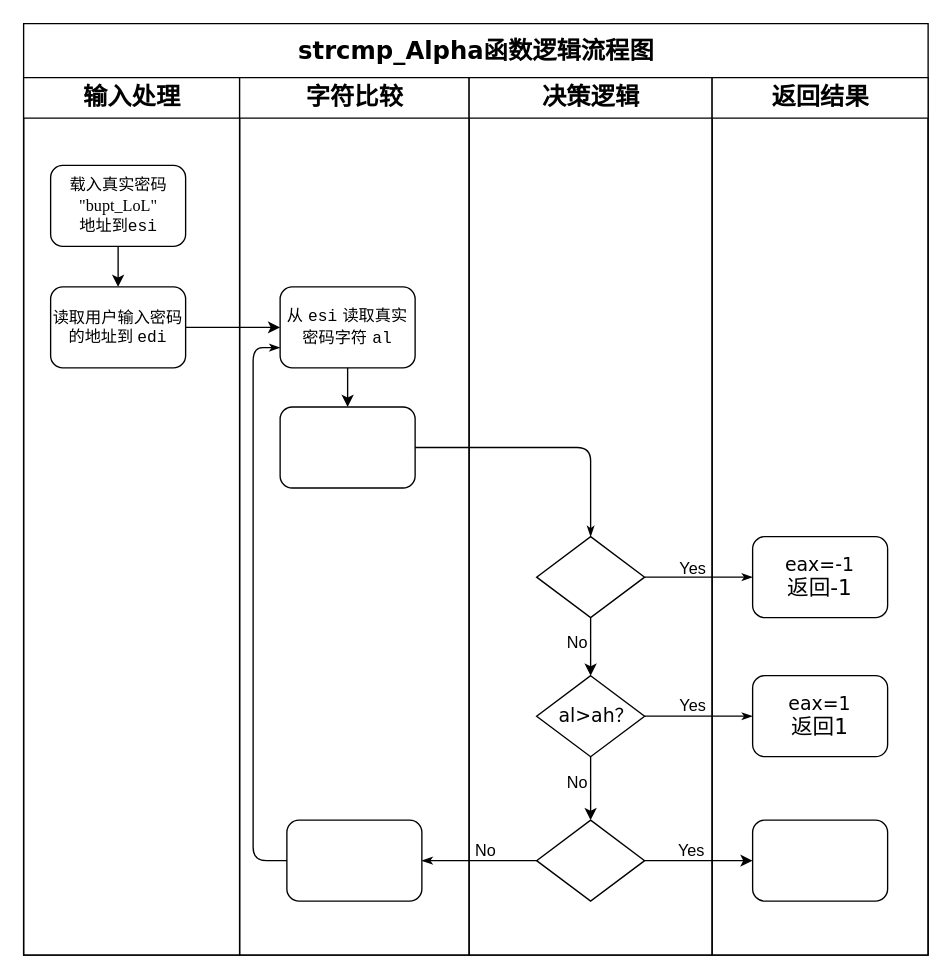
Some shapes in this 952 by 979 pixel diagram are drawn without their labels. The centre of each missing label's shape, as x and y in pixels:
"al<ah？" belongs at point 590,576.
"al=='\0'？" belongs at point 590,860.
"eax与自身异或恒为0， 返回0" belongs at point 819,860.
"从 edi 读取用户输入字符 ah" belongs at point 347,447.
"未到字符串结尾，继续取下一个字符" belongs at point 354,860.
